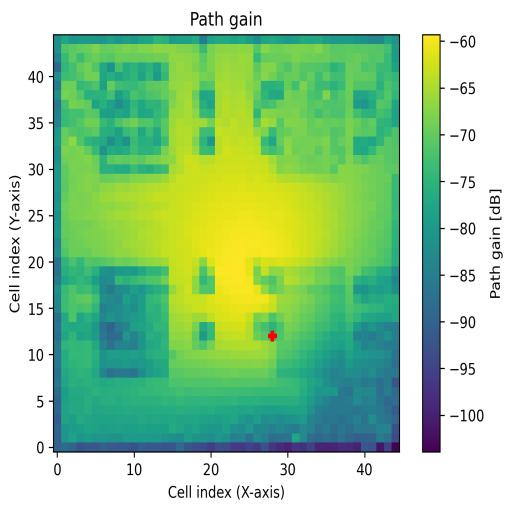Concrete: (276, 62, 344, 165)
Glass: (99, 62, 169, 172)
Metal: (276, 267, 346, 377)
Wood: (99, 266, 170, 378)
